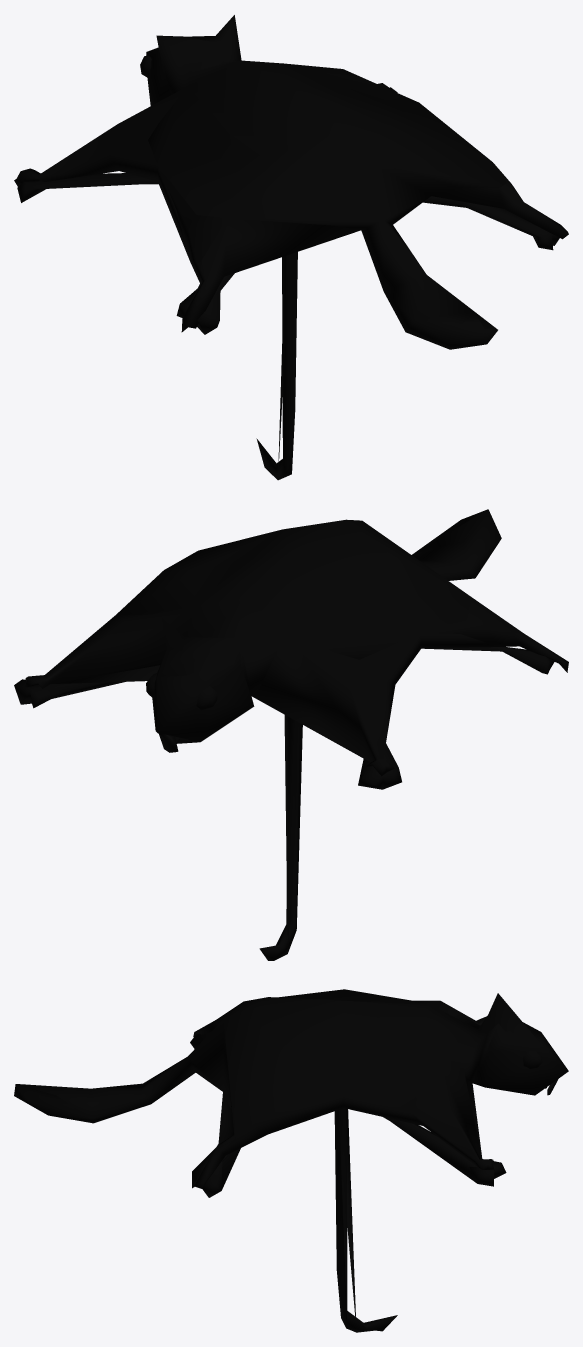
File: item_umbrella_squirrel.glb
3 renders of one model, top to bottom at view 1: azimuth 30°, elevation 25°; view 2: azimuth 150°, elevation 25°; view 3: azimuth 270°, elevation 25°, orthographic. The views are drawn at different scales.
Parts seen in each view (by area): view 1: UmbrellaSquirrel; view 2: UmbrellaSquirrel; view 3: UmbrellaSquirrel.
Boxes of the visible parts, x1,y1,x2,y2 form: UmbrellaSquirrel: (14,15,568,480); UmbrellaSquirrel: (14,509,568,960); UmbrellaSquirrel: (14,989,568,1332).
Size of the model in its own units: 0.8486 by 0.8418 by 1.27.
Materials: 1 (1 with a texture image).
